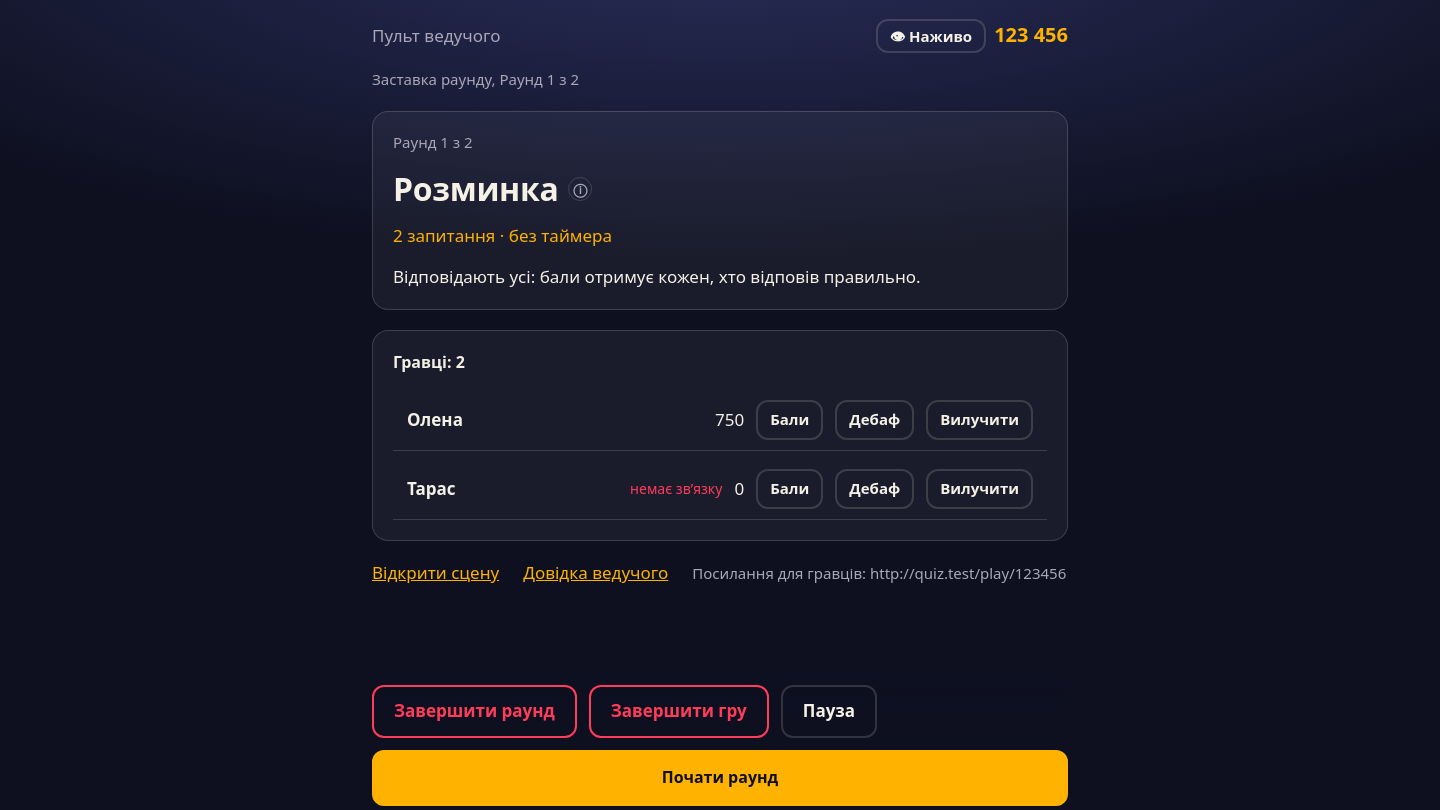
Test case: host help › the round intro has ⓘ next to its title
Click the button named "Довідка: Класичний".
click(580, 189)  # box [568,177,592,201]
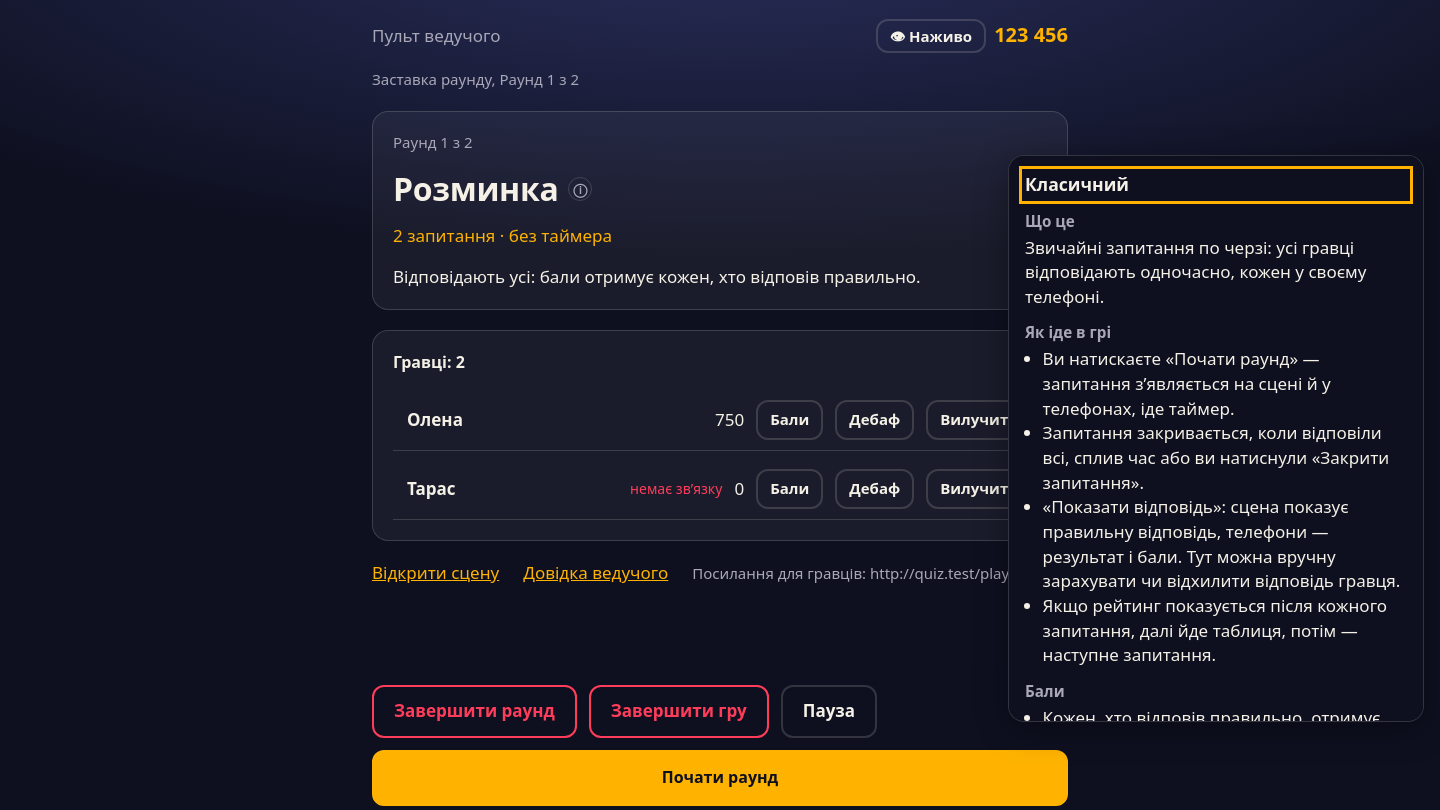
Check: the dialog "Класичний" is shown, box [1008,155,1424,722]
